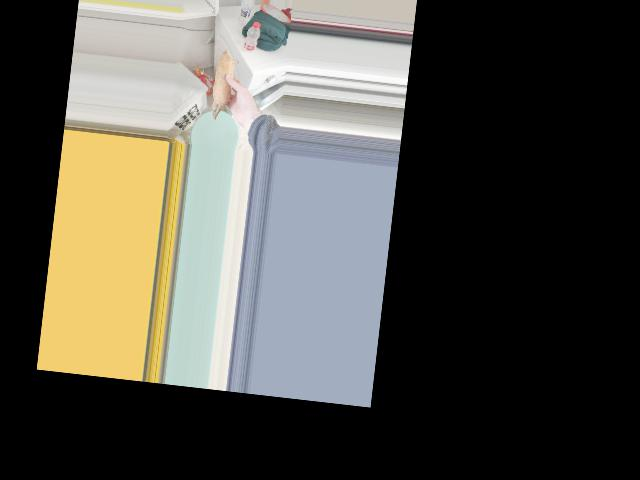sweet_potato: (210, 58, 240, 120)
